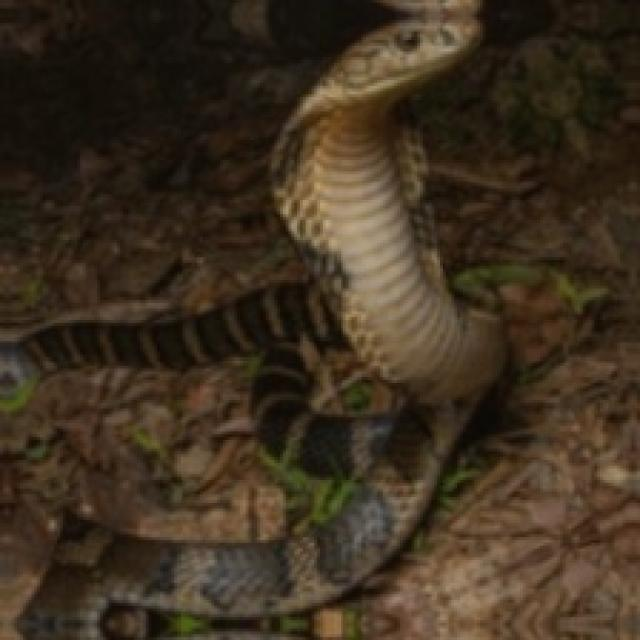king cobra: (0, 0, 503, 637)
